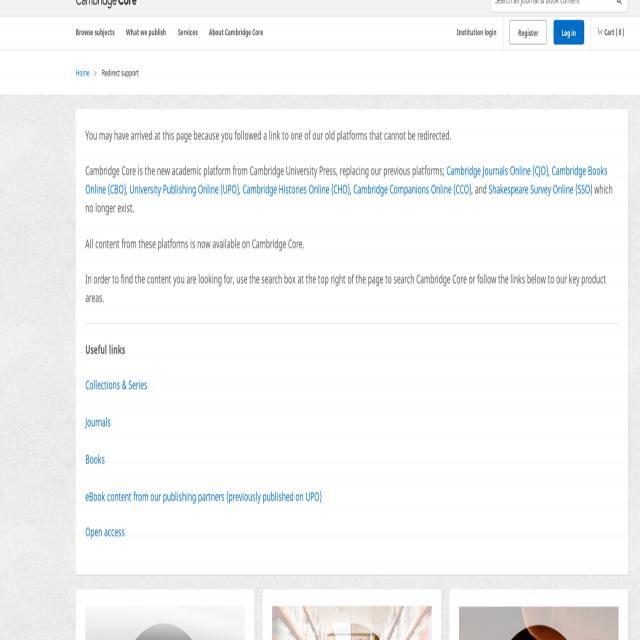button: (591, 16, 627, 48), (509, 20, 547, 45), (554, 20, 584, 45)
field: (605, 0, 627, 12)
